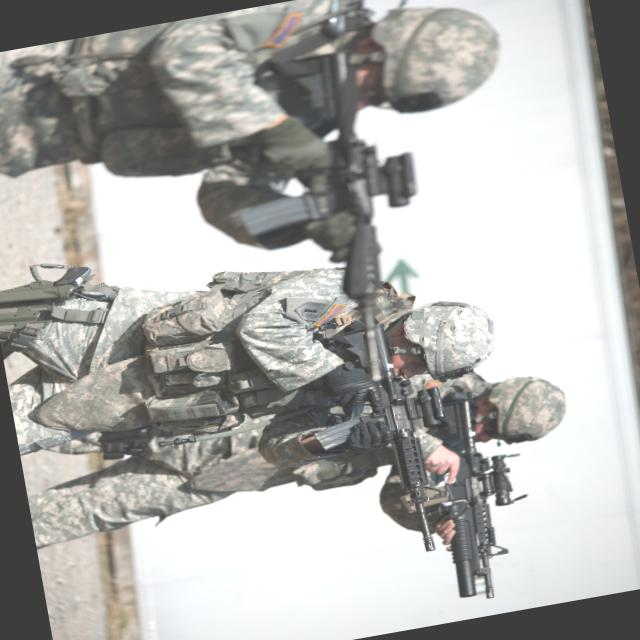long weapon: (246, 29, 432, 403), (316, 318, 474, 574), (421, 370, 548, 620)
